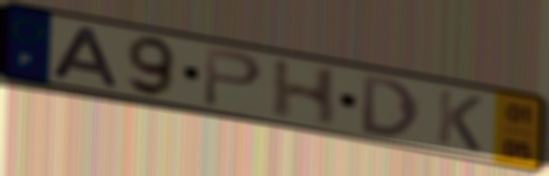9: (122, 34, 179, 99)
A: (47, 24, 122, 91)
D: (359, 72, 423, 140)
H: (269, 57, 342, 130)
K: (433, 86, 486, 155)
P: (201, 44, 267, 111)
